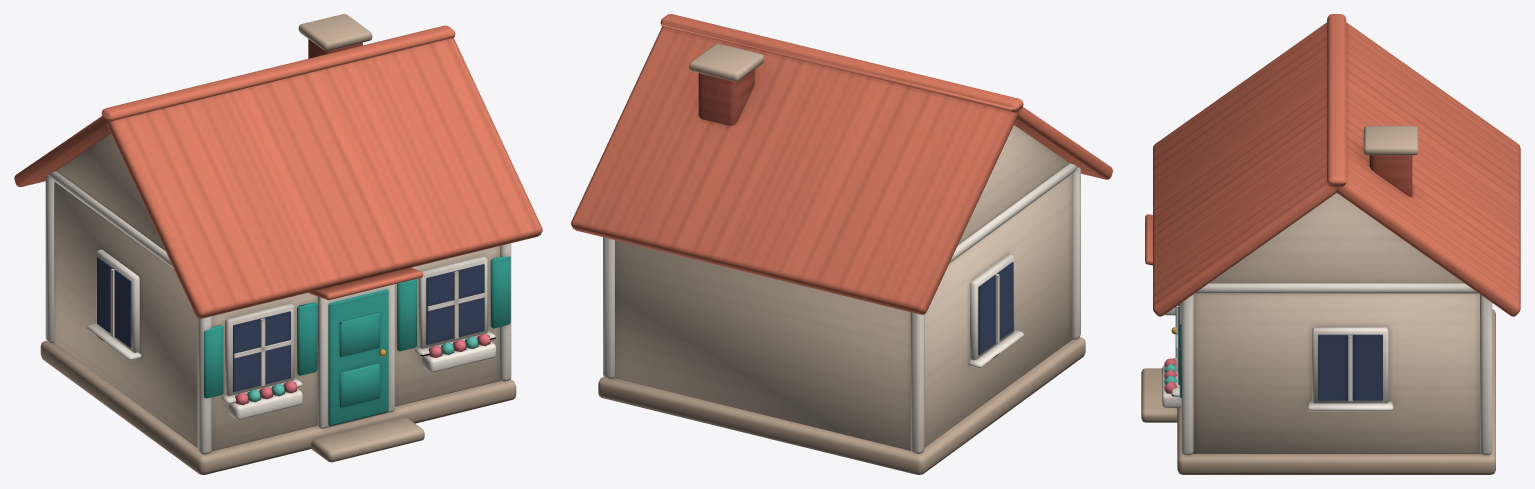
The model's file is StartKit_HouseA_Cream.fbx.
3 views of the same model, side by side, from view 1: azimuth 30°, elevation 25°; view 2: azimuth 150°, elevation 25°; view 3: azimuth 270°, elevation 25° (orthographic). The views are drawn at different scales.
Visible parts, largest first — view 1: HouseA_Cream; view 2: HouseA_Cream; view 3: HouseA_Cream.
Boxes of the visible parts, x1,y1,x2,y2 form: HouseA_Cream: (14, 14, 542, 474); HouseA_Cream: (571, 14, 1112, 474); HouseA_Cream: (1141, 14, 1520, 474).
Size of the model in its own units: 5.76 by 4.92 by 5.53.
Materials: 1 (1 with a texture image).
